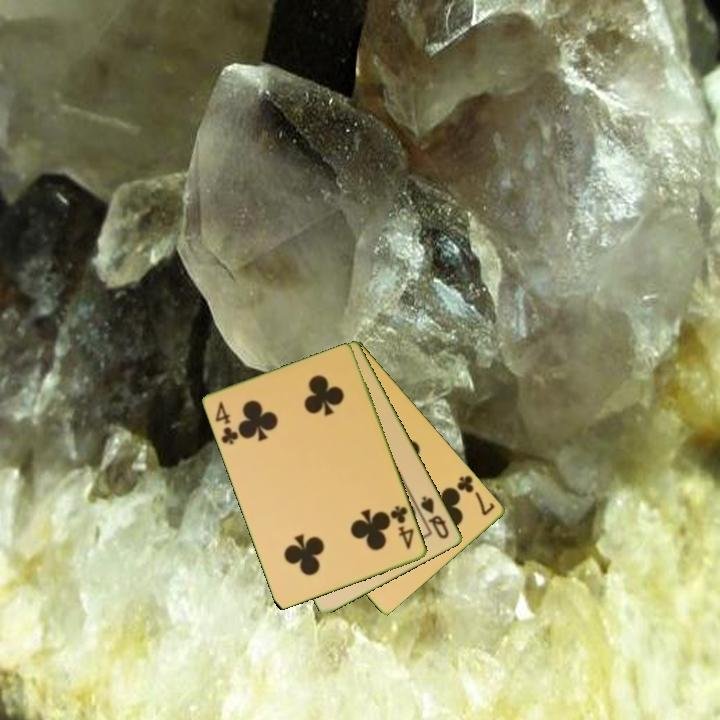4c: (387, 502, 417, 552), (212, 398, 242, 448)
7c: (453, 472, 498, 519)
Qs: (417, 493, 452, 542)
